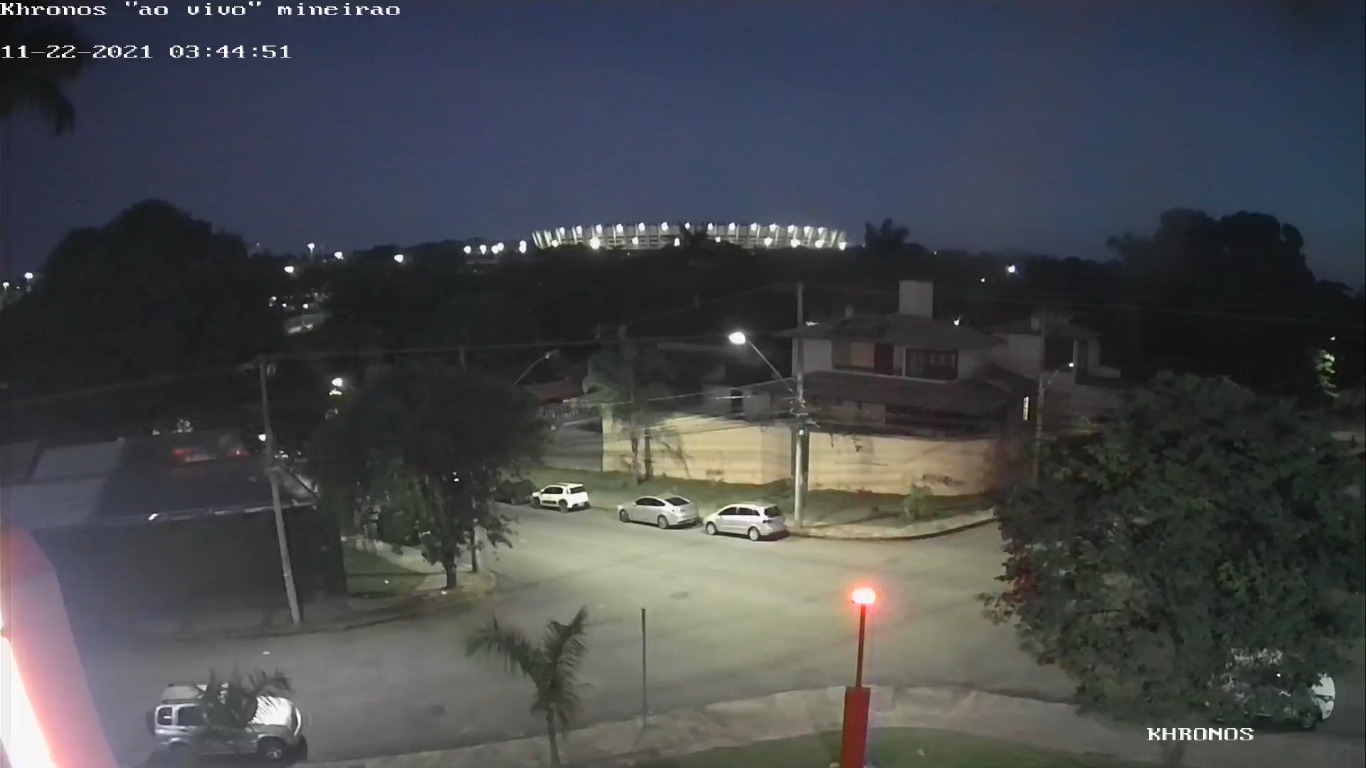car: (147, 684, 307, 762), (702, 499, 787, 541), (618, 491, 699, 529), (531, 480, 591, 514)
